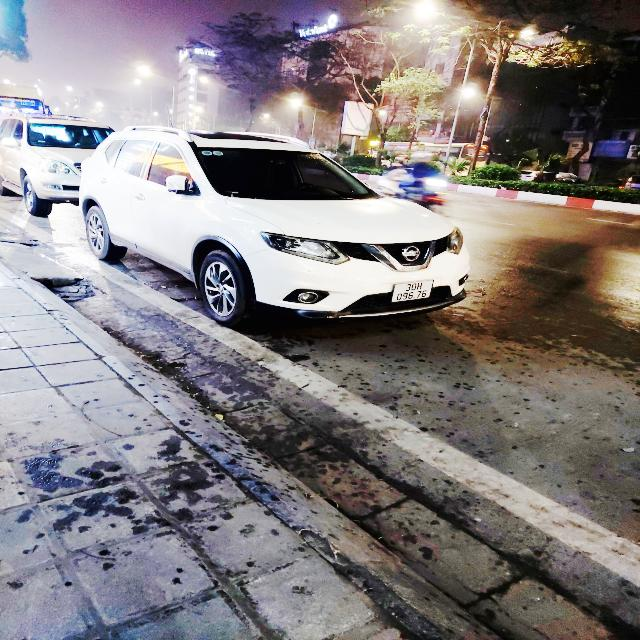license_plate: (392, 280, 436, 304)
